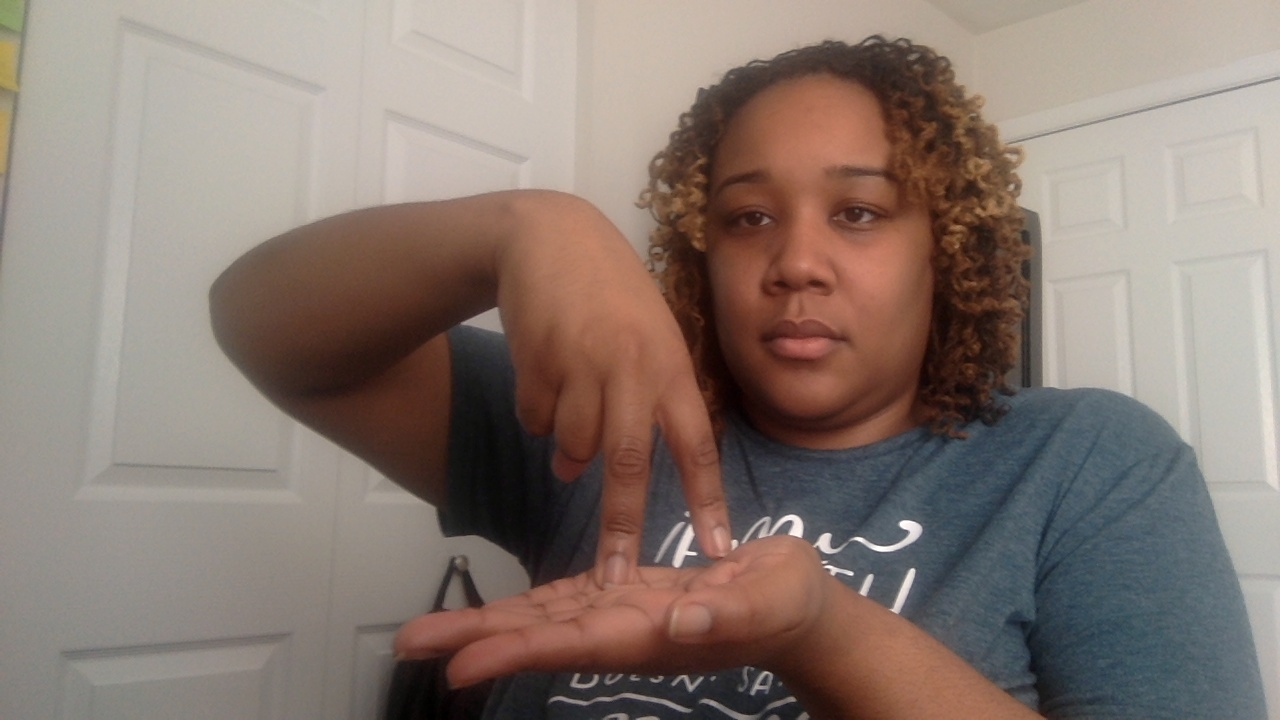fork: (389, 198, 817, 694)
